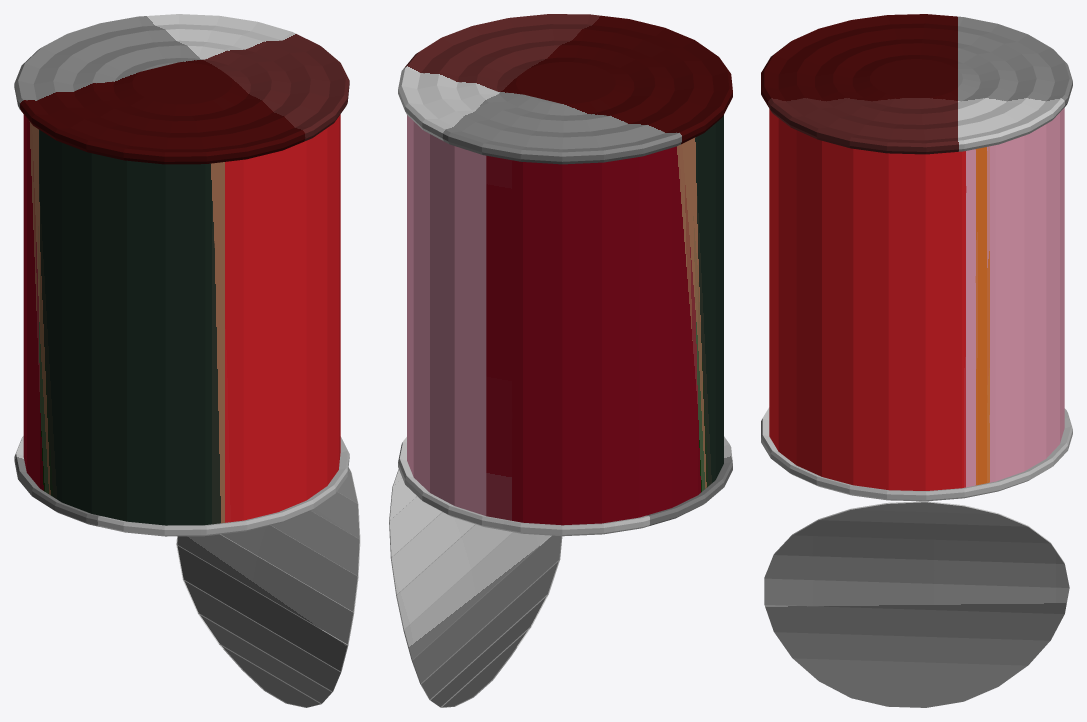
File: jamipurkki2.fbx
3 views of the same model, side by side, from view 1: azimuth 30°, elevation 25°; view 2: azimuth 150°, elevation 25°; view 3: azimuth 270°, elevation 25° (orthographic). The views are drawn at different scales.
Visible parts, largest first — view 1: Cylinder; view 2: Cylinder; view 3: Cylinder.
Boxes of the visible parts, box(x1,y1,x2,y2) form: Cylinder: box(14, 14, 360, 707); Cylinder: box(389, 14, 732, 707); Cylinder: box(761, 14, 1072, 707).
Size of the model in its own units: 2.11 by 2.11 by 4.39.
